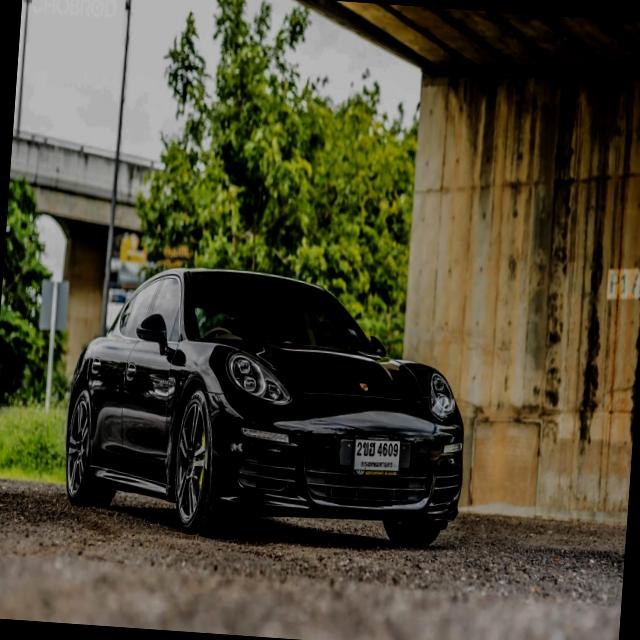license_plate: (347, 431, 406, 484)
